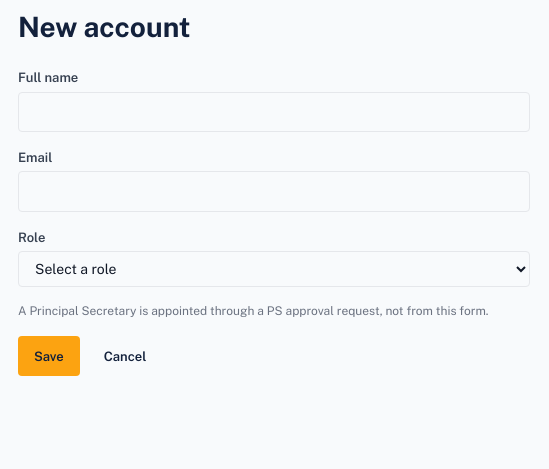
Test: UserFormPage › TC-FR-AUTH-021: a Ministry Administrator gets no department field and a PS-approval hint; mission roles ask for a mission
Expected: the text "appointed through a PS approval request" is shown, [18, 304, 489, 318]
Expected: the field labelled "Mission" is not shown
Select "Ministry Attache" in the dropdown labelled "Role" at (274, 269), box [18, 251, 530, 287]
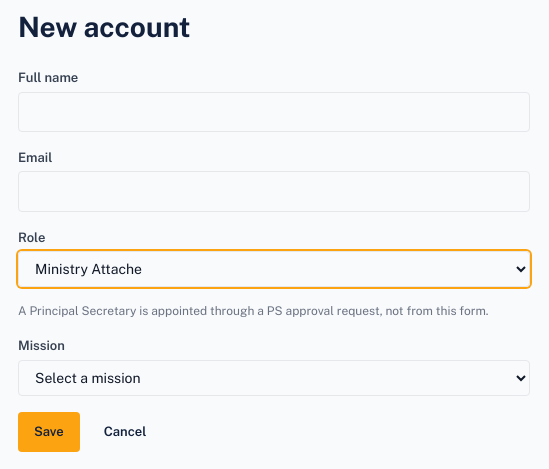
Result: the dropdown labelled "Mission" is shown at [18, 360, 530, 396]
